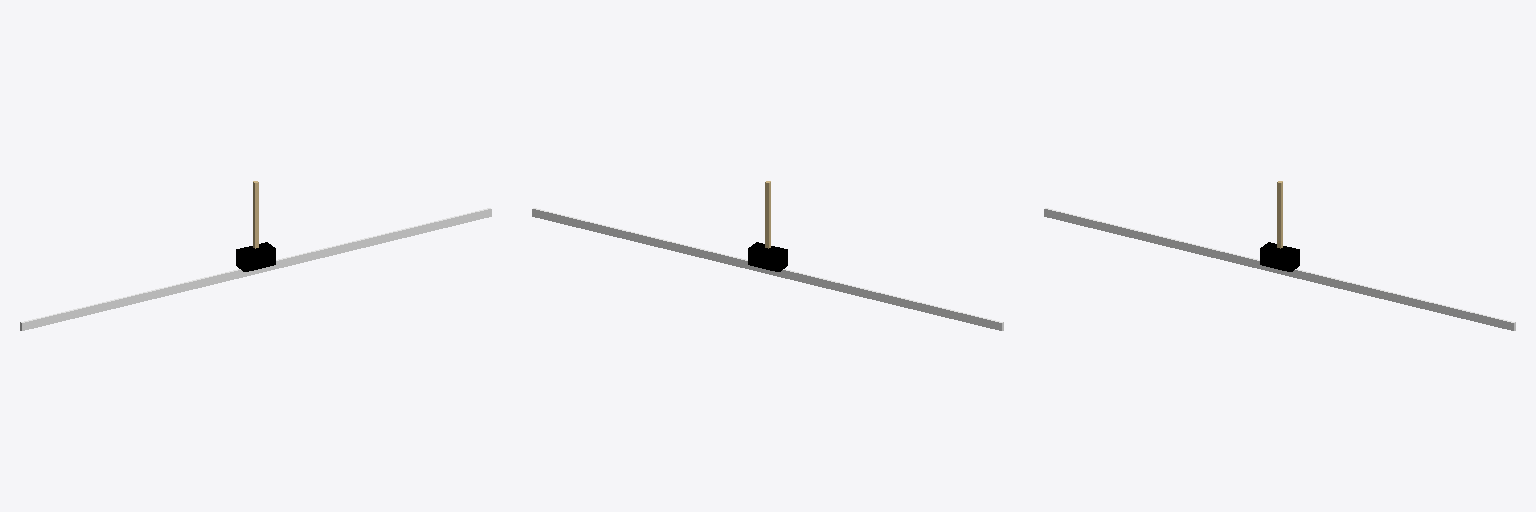
robot.urdf — cartpole_v0:
<?xml version="1.0" encoding="utf-8"  ?>
<robot name="cartpole_v0">
	
	<gazebo>
        <plugin name="gazebo_ros_control" filename="libgazebo_ros_control.so">
            <robotNamespace>/cartpole_v0</robotNamespace>
        </plugin>
    </gazebo>
	
	<!-- * * * Link Definitions * * * -->
  	<!-- * * * Define World Link to fix the foot rail to the world * * * -->
    <link name="world"/>
	<link name="bar_link">
		<visual>
			<origin xyz="0 0 0.4" rpy="0 0 0"/>
			<geometry>
				<box size="0.05 0.05 0.8"/>
			</geometry>
	     	<material name="brown">
				<color rgba="0.9 0.8 0.6 1.0"/>
			</material>
	   </visual>
		<collision>
			<origin xyz="0 0 0.4" rpy="0 0 0"/>
			<geometry>
				<box size="0.05 0.05 0.8"/>
			</geometry>
	   </collision>
		<inertial>
		    <origin xyz="0 0 0.4" rpy="0 0 0"/>
        	<mass value="1"/>
        	<inertia ixx="0.0535416666667" ixy="0.0" ixz="0.0" iyy="0.0535416666667" iyz="0.0" izz="0.000416666666667"/>
        </inertial>
	</link>
	<gazebo reference="bar_link">
		<kp>1000.0</kp>
        <kd>1000.0</kd>
        <mu1>0.5</mu1>
        <mu2>0.5</mu2>
        <material>Gazebo/Orange</material>
    </gazebo>

	<link name="base_link">
		<visual>
			<origin xyz="0 0 0.2" rpy="0 0 0"/>
			<geometry>
				<box size="0.4 0.2 0.2"/>
			</geometry>
	     	<material name="black">
				<color rgba="0 0 0 1.0"/>
			</material>
	   </visual>
  		<collision>
			<origin xyz="0 0 0.2" rpy="0 0 0"/>
			<geometry>
				<box size="0.4 0.2 0.2"/>
			</geometry>
	   </collision>
  		<inertial>
		    <origin xyz="0 0 0.2" rpy="0 0 0"/>
        	<mass value="2.5"/>
        	<inertia ixx="0.0166666666667" ixy="0.0" ixz="0.0" iyy="0.0416666666667" iyz="0.0" izz="0.0416666666667"/>
        </inertial>
	</link>
	<gazebo reference="base_link">
        <kp>1000.0</kp>
        <kd>1000.0</kd>
        <mu1>0.5</mu1>
        <mu2>0.5</mu2>
        <material>Gazebo/Black</material>
    </gazebo>

	<link name="foot_link">
		<visual>
			<origin xyz="0 0 0.05" rpy="0 0 0"/>
			<geometry>
				<box size="6 0.025 0.1"/>
			</geometry>
	     	<material name="white">
				<color rgba="1 1 1 1.0"/>
			</material>
	   </visual>
  		<collision>
			<origin xyz="0 0 0.05" rpy="0 0 0"/>
			<geometry>
				<box size="6 0.025 0.1"/>
			</geometry>
	   </collision>
	   <inertial>
		    <origin xyz="0 0 0.05" rpy="0 0 0"/>
        	<mass value="5"/>
        	<inertia ixx="0.00442708333333" ixy="0.0" ixz="0.0" iyy="15.0041666667" iyz="0.0" izz="15.0002604167"/>
        </inertial>
	</link>
	<gazebo reference="foot_link">
        <kp>1000.0</kp>
        <kd>1000.0</kd>
        <mu1>0.5</mu1>
        <mu2>0.5</mu2>
        <material>Gazebo/White</material>
    </gazebo>
	
<!-- * * * Joint Definitions * * * -->
 	<joint name="cartpole_joint" type="revolute">
    	<parent link="base_link"/>
    	<child link="bar_link"/>
    	<origin xyz="0 0 0.32" rpy="0 0 0"/>
		<dynamics damping="0.0" friction="0.1"/>
       	<limit lower="-1.57" upper="1.57" effort="1" velocity="100"/>
        <axis xyz="0 1 0"/>
	</joint>
	<joint name="foot_joint" type="prismatic">
    	<parent link="foot_link"/>
    	<child link="base_link"/>
       	<limit lower="-2.0" upper="2.0" effort="2000000" velocity="100000"/>
	</joint>
	<joint name="fixed" type="fixed">
        <parent link="world"/>
        <child link="foot_link"/>
    </joint>

<!-- * * * Transmission Definitions * * * -->
	<transmission name="pole_joint_trans">
      <type>transmission_interface/SimpleTransmission</type>
      <joint name="cartpole_joint">
        <hardwareInterface>hardware_interface/EffortJointInterface</hardwareInterface>
      </joint>
      <actuator name="pole_jointMotor">
        <hardwareInterface>hardware_interface/EffortJointInterface</hardwareInterface>
        <mechanicalReduction>1</mechanicalReduction>
      </actuator>
    </transmission>
    
	<transmission name="foot_joint_trans">
      <type>transmission_interface/SimpleTransmission</type>
      <joint name="foot_joint">
        <hardwareInterface>hardware_interface/EffortJointInterface</hardwareInterface>
      </joint>
      <actuator name="foot_jointMotor">
        <hardwareInterface>hardware_interface/EffortJointInterface</hardwareInterface>
        <mechanicalReduction>1</mechanicalReduction>
      </actuator>
    </transmission>
 
</robot>

--- Facts derived from the render (not from the file) ---
Views: 3 orthographic renders of the robot side by side, from view 1: azimuth 30°, elevation 25°; view 2: azimuth 150°, elevation 25°; view 3: azimuth 330°, elevation 25°.
Model cartpole_v0 with 4 links and 3 joints (1 revolute, 1 prismatic, 1 fixed), rooted at world, posed all joints at 0.
Links seen in each view (by area): view 1: foot_link, base_link; view 2: foot_link, base_link; view 3: foot_link, base_link.
Link boxes in pixels (x1,y1,x2,y2): foot_link: (20,208,491,330); base_link: (236,242,275,271); foot_link: (532,208,1003,330); base_link: (748,242,787,271); foot_link: (1044,208,1515,330); base_link: (1260,242,1299,271).
Size in the robot's own frame: 6 by 0.2 by 1.12 metres.
Geometry: primitives only (box / cylinder / sphere), no mesh files.
